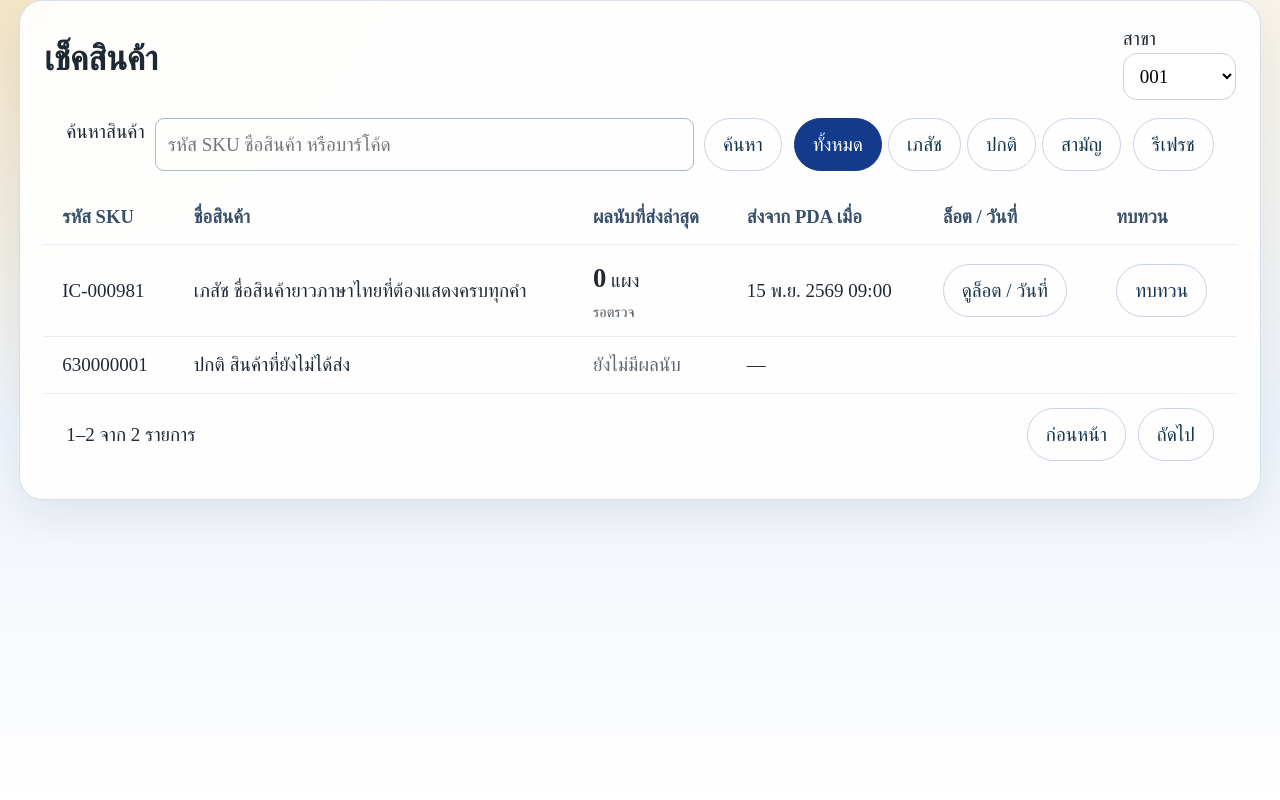
Scenario: 004 shows two area quantities with their lots and never promotes either to a branch total
Check: the text "เภสัช ชื่อสินค้ายาวภาษาไทยที่ต้องแสดงครบทุกคำ" is shown, box [176,245,575,337]
Select "004" in the dropdown named "สาขาผลนับ PDA" at {"x": 1179, "y": 76}, box [1123,52,1236,100]
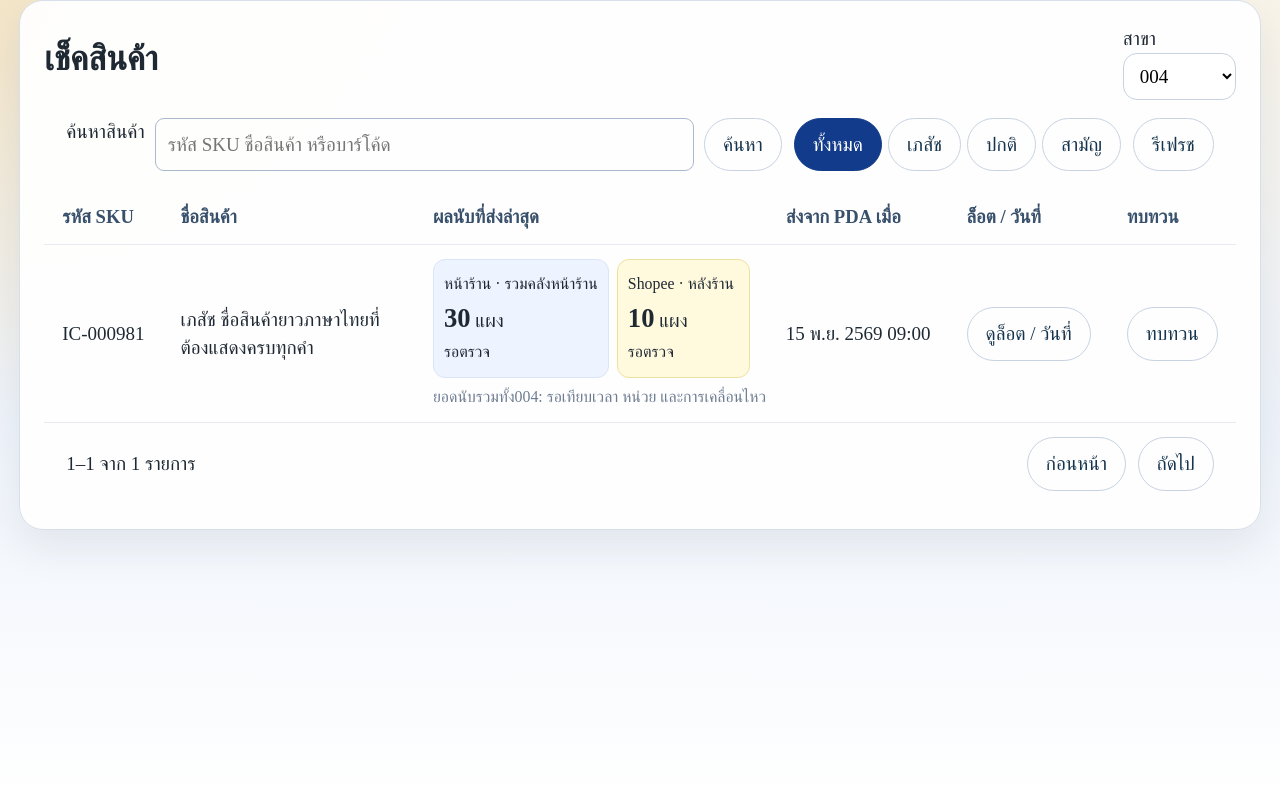
Check: the text "หน้าร้าน · รวมคลังหน้าร้าน" is shown, box [444,273,598,296]
Check: the text "Shopee · หลังร้าน" is shown, box [628,273,739,296]
Check: the text "10" is shown, box [628,303,654,333]
Click the button "ดูล็อต / วันที่" at {"x": 1029, "y": 334}, box [967,307,1091,360]
(page scrolled)
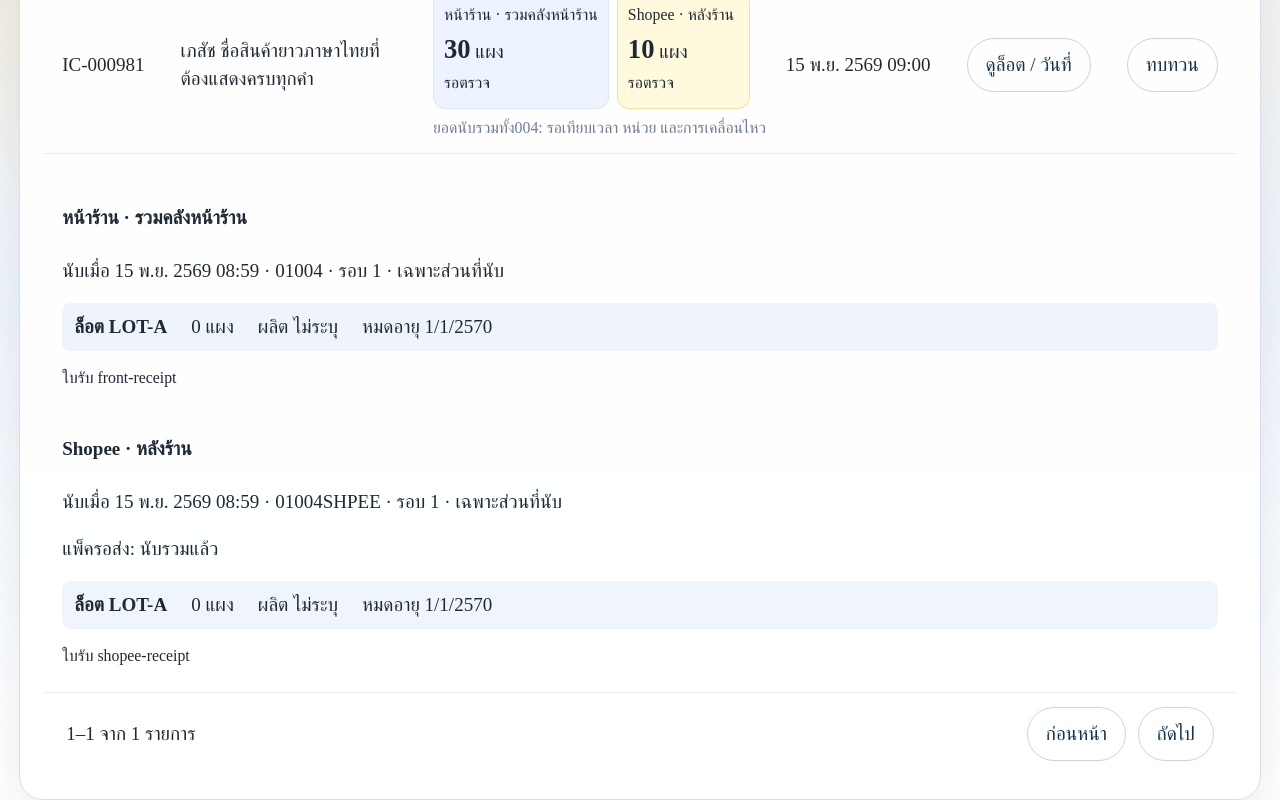
Check: the text "แพ็ครอส่ง: นับรวมแล้ว" is shown, box [62,538,218,559]
Check: the text "ล็อต LOT-A" is shown 2 times, box [74,313,167,341]; [74,591,167,619]
